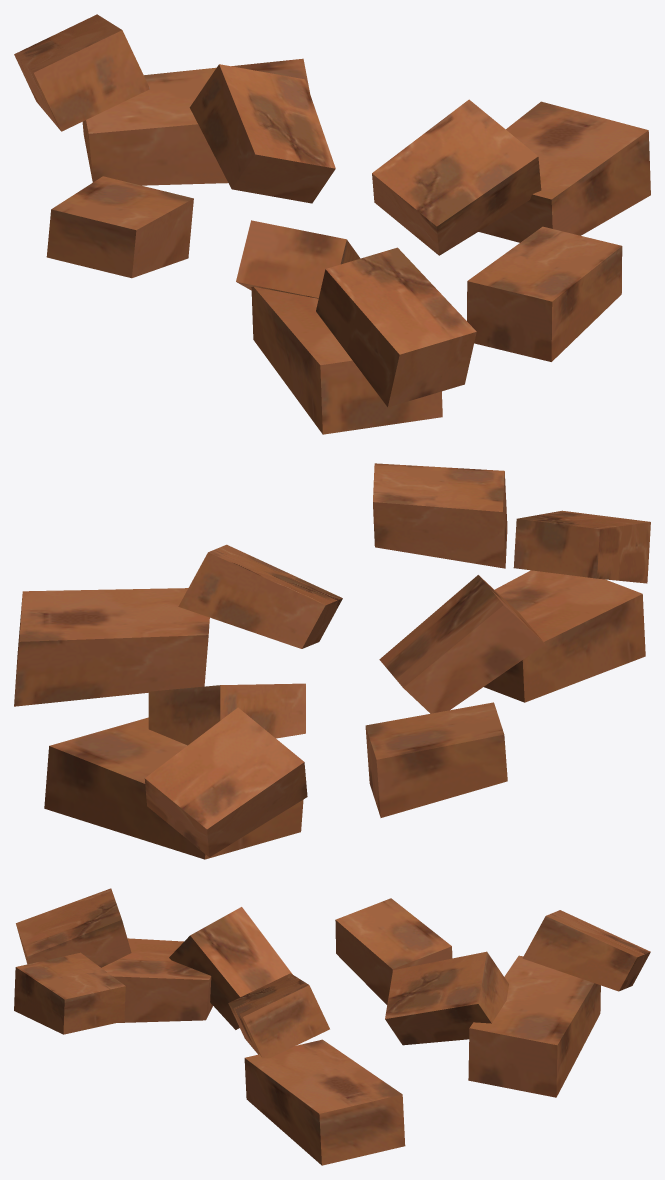
Rendered from oBldWalDirt01F.FBX.
The picture shows the model from 3 angles, top to bottom: view 1: azimuth 30°, elevation 25°; view 2: azimuth 150°, elevation 25°; view 3: azimuth 270°, elevation 25°; orthographic projection. The views are drawn at different scales.
Parts seen in each view (by area): view 1: oBldWalDirt01F; view 2: oBldWalDirt01F; view 3: oBldWalDirt01F.
Part boxes in pixels (box(x1,y1,x2,y2)): oBldWalDirt01F: box(14, 14, 650, 434); oBldWalDirt01F: box(14, 463, 650, 859); oBldWalDirt01F: box(14, 888, 650, 1165).
Bounding box in the file's own units: 14.05 × 3.57 × 18.56.
Materials: 1 (1 with a texture image).
